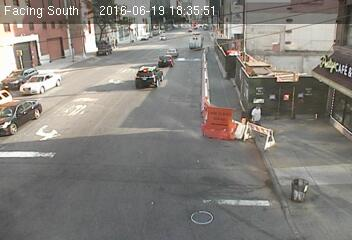neg: (49, 95, 85, 143), (255, 29, 283, 66), (50, 164, 78, 201), (282, 161, 308, 196), (220, 125, 245, 159), (196, 91, 220, 124), (247, 165, 270, 195), (288, 93, 310, 123), (162, 174, 184, 203), (131, 67, 152, 96), (199, 42, 219, 68), (68, 46, 87, 72), (110, 138, 127, 161), (128, 17, 143, 38)
pos: (249, 100, 267, 125)
